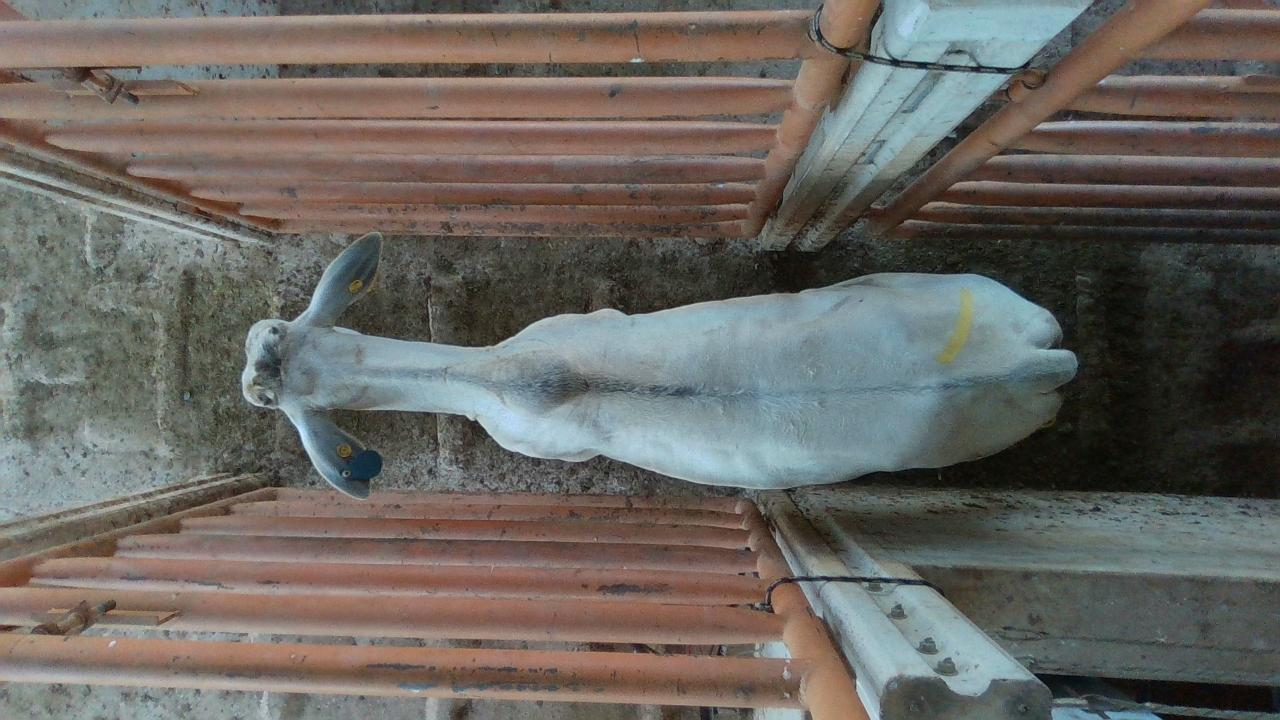cattle: (239, 229, 1079, 497)
